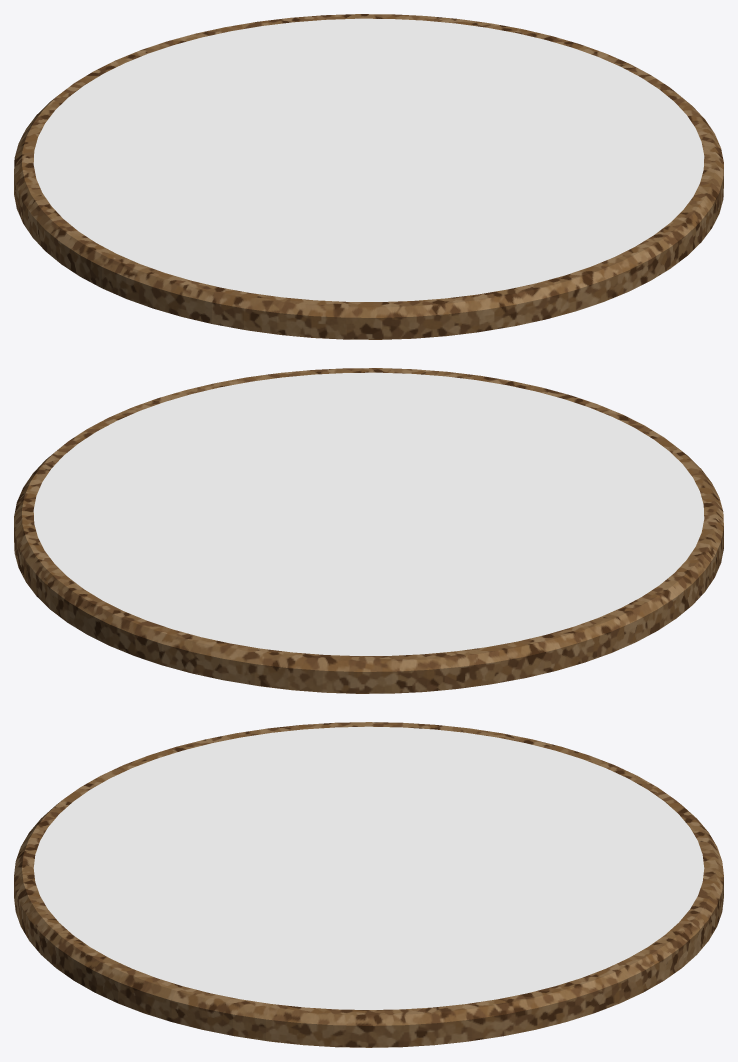
Rendered from preview.glb.
The picture shows the model from 3 angles, top to bottom: view 1: azimuth 30°, elevation 25°; view 2: azimuth 150°, elevation 25°; view 3: azimuth 270°, elevation 25°; orthographic projection.
Parts seen in each view (by area): view 1: Coaster_Print, Coaster_Base; view 2: Coaster_Print, Coaster_Base; view 3: Coaster_Print, Coaster_Base.
Boxes of the visible parts, x1,y1,x2,y2 form: Coaster_Print: (33, 18, 704, 301); Coaster_Base: (14, 14, 723, 339); Coaster_Print: (33, 372, 704, 655); Coaster_Base: (14, 368, 723, 693); Coaster_Print: (33, 726, 704, 1009); Coaster_Base: (14, 722, 723, 1047).
Bounding box in the file's own units: 0.09 × 0.00505 × 0.09.
2 materials, 1 textured.
